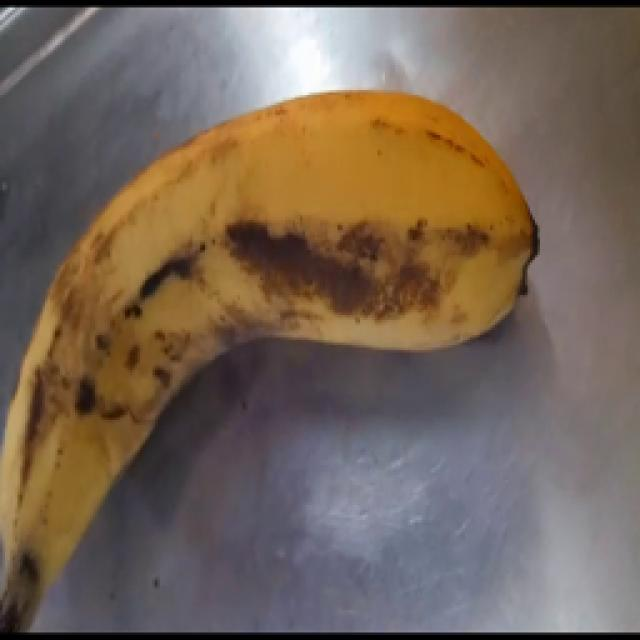Rotten_Banana: (0, 90, 540, 632)
